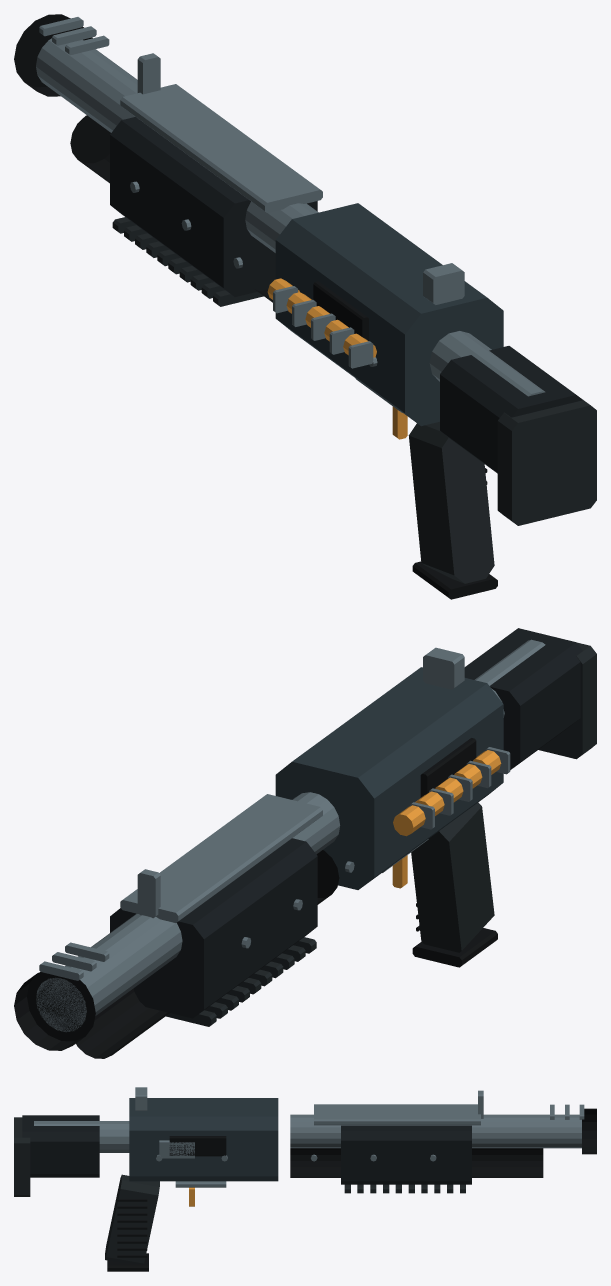
The model's file is BreachS8.obj.
The picture shows the model from 3 angles, top to bottom: view 1: azimuth 30°, elevation 25°; view 2: azimuth 150°, elevation 25°; view 3: azimuth 270°, elevation 25°; orthographic projection. The views are drawn at different scales.
Size of the model in its own units: 0.307 by 0.646 by 1.96.
